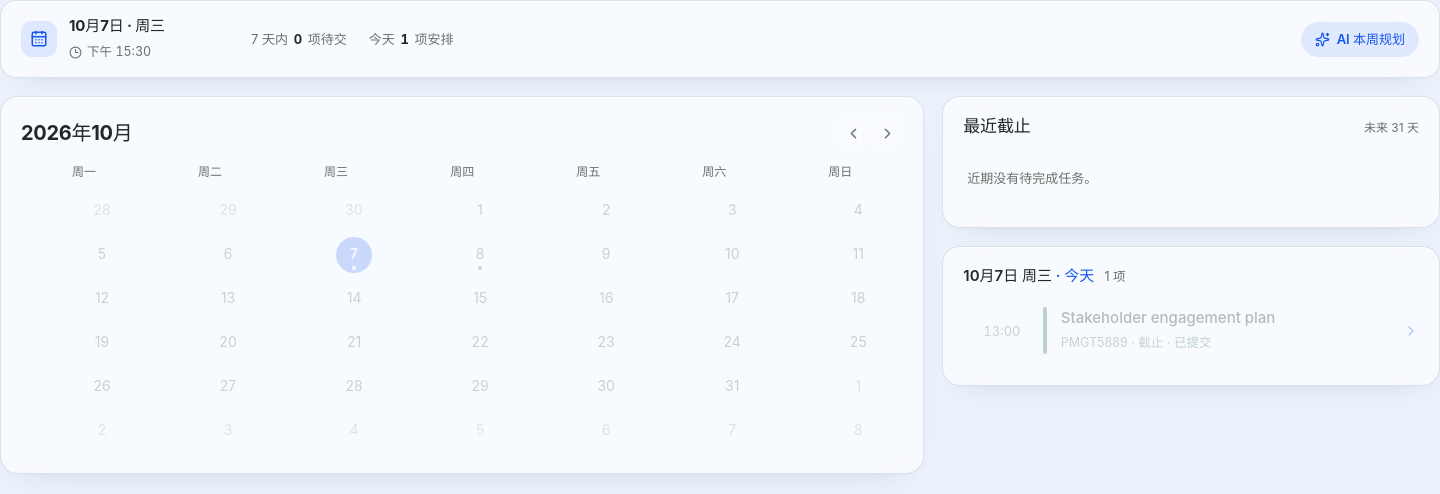
it: CalmSchedule › marks submitted and graded assignments as done
Expected: the text "已提交" is shown, [1174,335,1212,350]
Click the button named "10月8日" at (480,255), box [417,233,543,277]
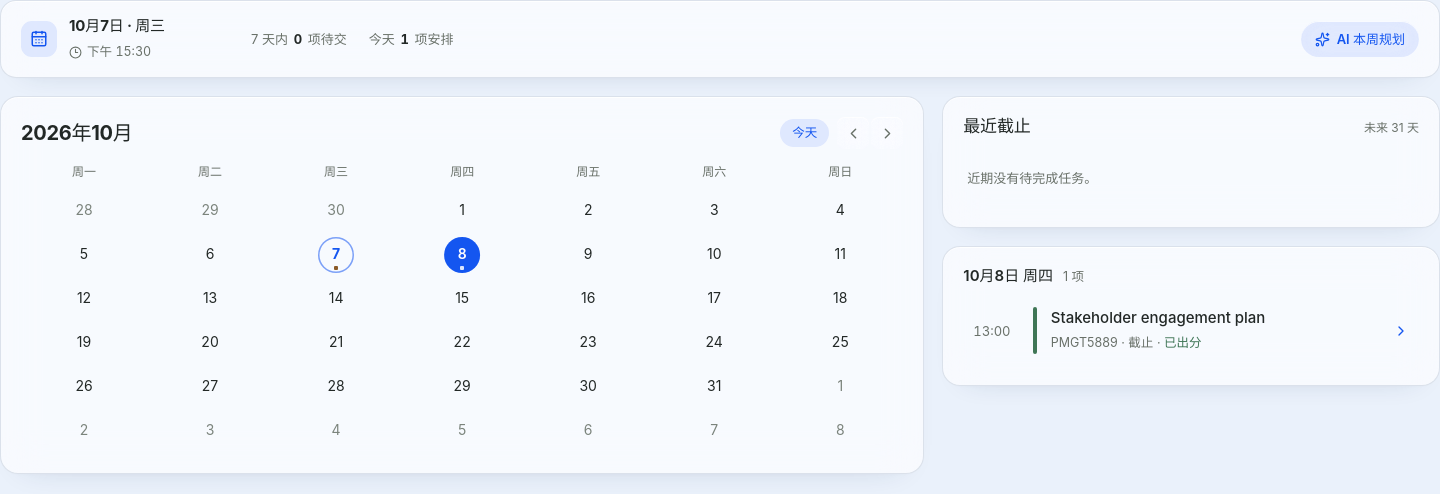
Expected: the text "已出分" is shown, [1164,335,1202,350]
